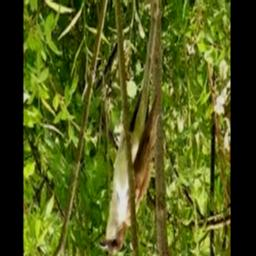Cuckoo: (98, 0, 159, 256)
